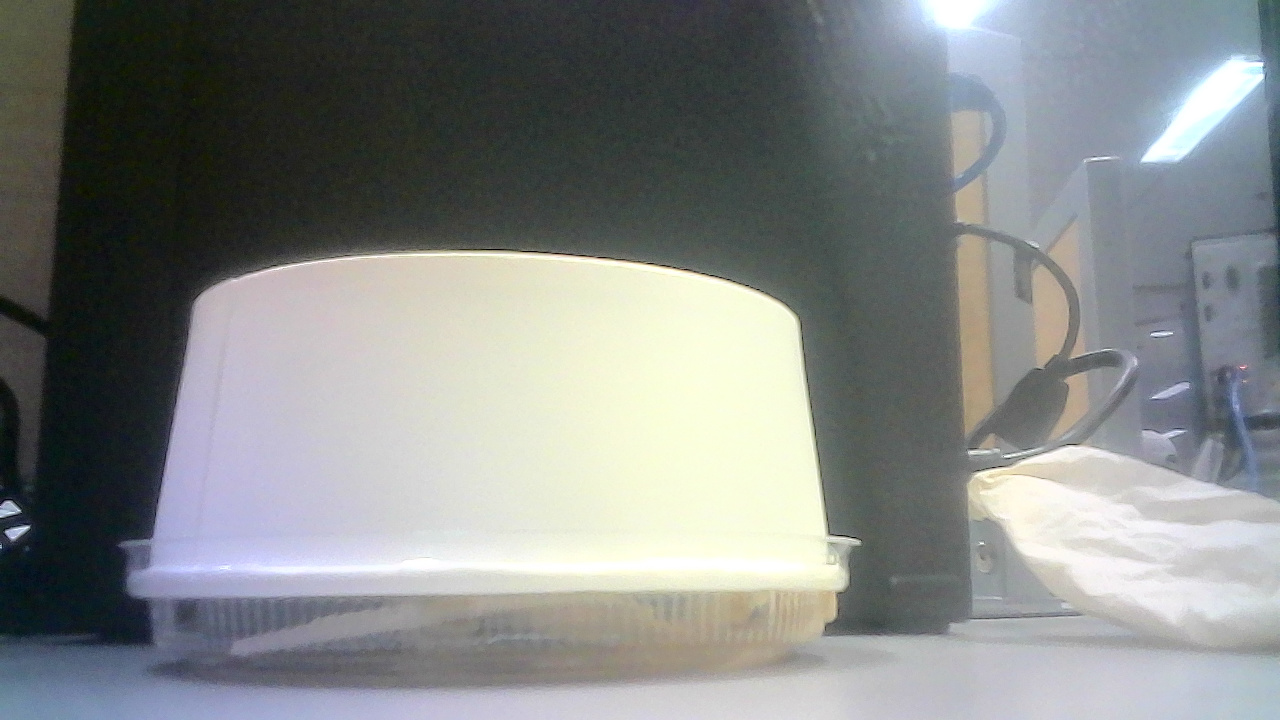Undefined_Waste: (116, 254, 885, 672)
